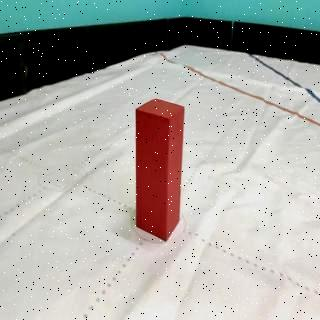redbox: (136, 97, 185, 243)
